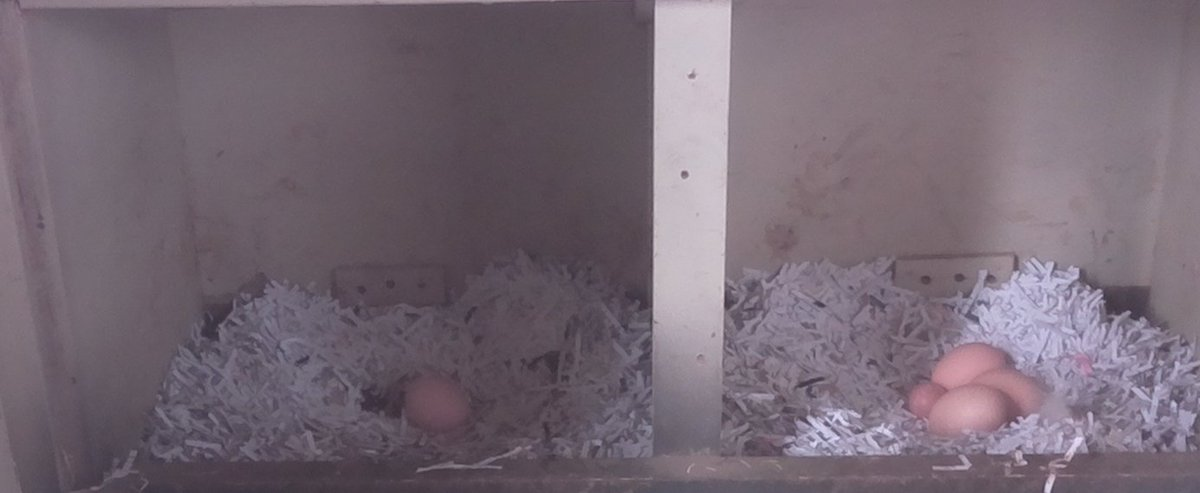egg: (396, 369, 483, 436), (926, 379, 1018, 440), (972, 361, 1055, 420), (932, 338, 1015, 389), (902, 378, 955, 423)
